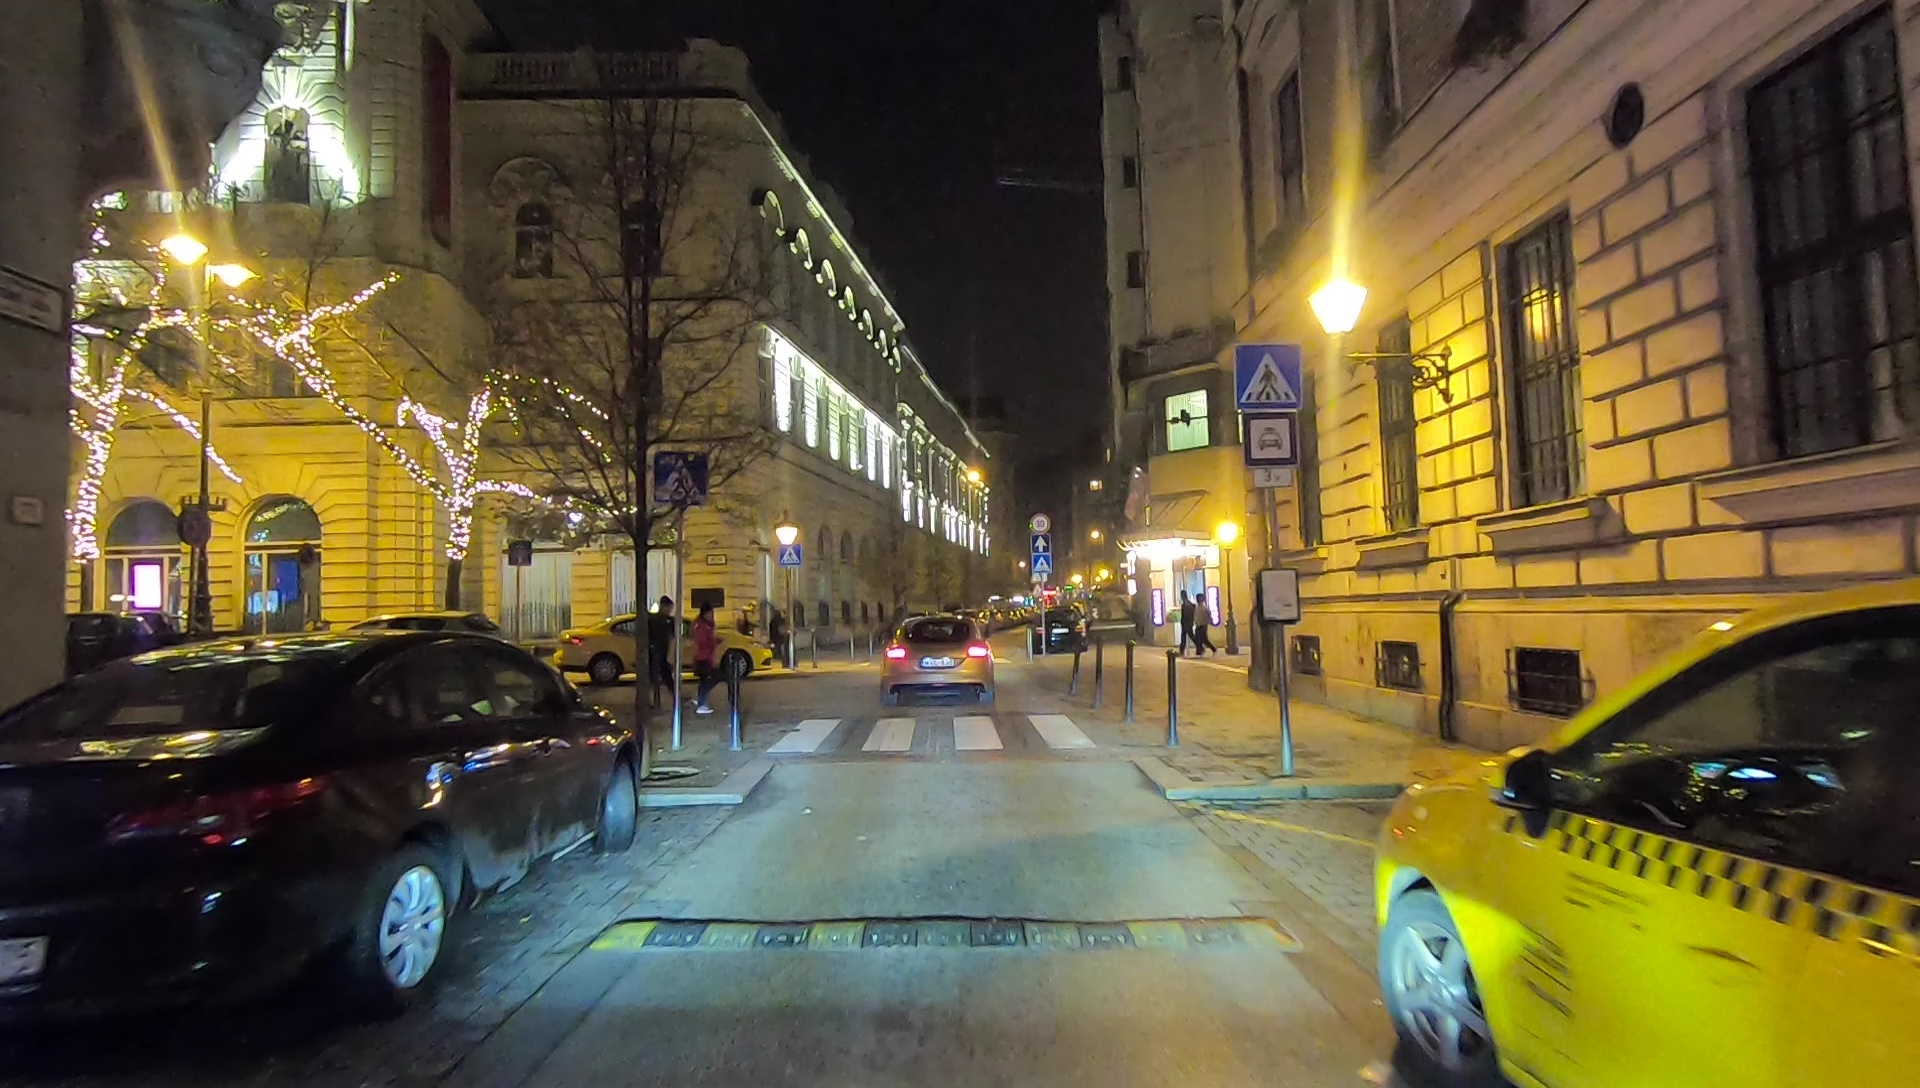person: (643, 597, 676, 704), (689, 608, 719, 715), (1173, 593, 1195, 654), (1191, 595, 1210, 649)
